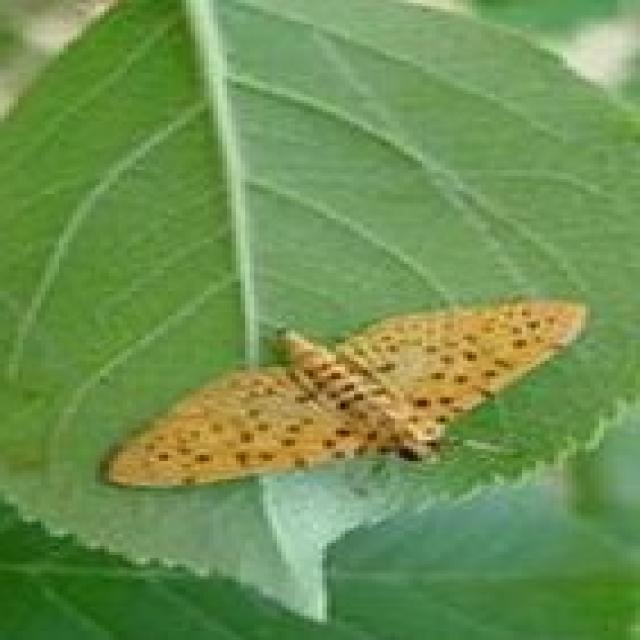peach borer: (90, 292, 594, 517)
